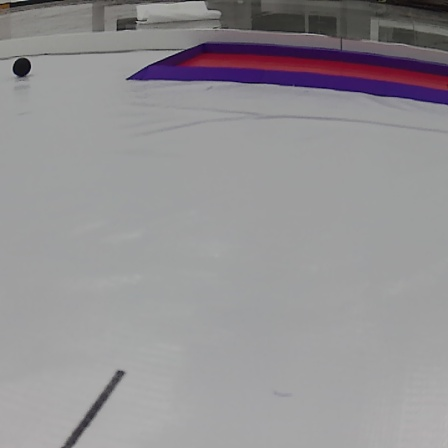black: (13, 56, 31, 77)
red_aim: (117, 39, 448, 107)
